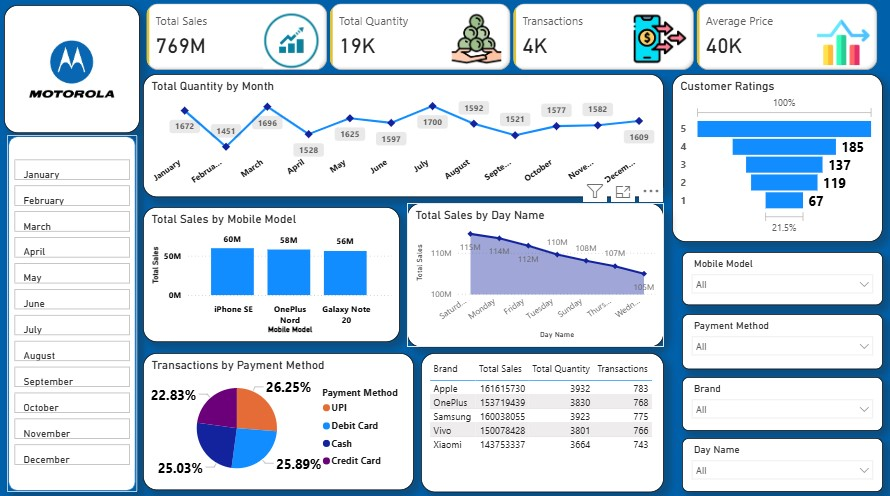

The dashboard page shown, as its layout file describes it:
{"tool":"powerbi","page":{"name":"Page 1","canvas":[1280,720],"ordinal":0},"visuals":[{"type":"shape","box":[8.6,7.1,194.3,182.9],"z":0},{"type":"image","box":[24.3,14.3,161.4,168.6],"z":1000},{"type":"shape","box":[12.8,192.8,185.7,510.2],"z":2000},{"type":"advancedSlicerVisual","fields":{"Values":["SalesData.Date.Variation.Date Hierarchy.Month"]},"box":[18.4,222.5,175.7,446.5],"z":3000},{"type":"cardVisual","fields":{"Data":["SalesData.Total Sales","SalesData.Total Quantity","SalesData.Transactions","SalesData.Average Price"]},"box":[207.1,0,1057.1,105.7],"z":4000},{"type":"lineChart","fields":{"Category":["SalesData.Date.Variation.Date Hierarchy.Month","SalesData.Date.Variation.Date Hierarchy.Day"],"Y":["SalesData.Total Quantity"]},"box":[207.1,105.7,744.3,175.7],"z":5000},{"type":"clusteredColumnChart","fields":{"Category":["SalesData.Mobile Model"],"Y":["SalesData.Total Sales"]},"box":[207.1,295.7,367.1,192.9],"z":6000},{"type":"pieChart","fields":{"Y":["SalesData.Transactions"],"Category":["SalesData.Payment Method"]},"box":[207.1,504.3,387.1,195.7],"z":7000},{"type":"funnel","title":"Customer Ratings","fields":{"Y":["CountNonNull(SalesData.Customer Ratings)"],"Category":["SalesData.Customer Ratings"]},"box":[962.9,105.7,301.4,240],"z":8000},{"type":"areaChart","fields":{"Category":["SalesData.Day Name"],"Y":["SalesData.Total Sales"]},"box":[584.3,290,367.1,205.7],"z":9000},{"type":"tableEx","fields":{"Values":["SalesData.Brand","SalesData.Total Sales","SalesData.Total Quantity","SalesData.Transactions"]},"box":[604.3,504.3,347.1,198.6],"z":10000},{"type":"slicer","fields":{"Values":["SalesData.Mobile Model"]},"box":[977.1,360,287.1,75.7],"z":11000},{"type":"slicer","fields":{"Values":["SalesData.Payment Method"]},"box":[977.1,448.6,287.1,78.6],"z":11001},{"type":"slicer","fields":{"Values":["SalesData.Brand"]},"box":[977.1,538.6,287.1,77.1],"z":11002},{"type":"slicer","fields":{"Values":["SalesData.Day Name"]},"box":[977.1,625.7,287.1,77.1],"z":11003}]}

Visuals, with their boxes in screenshot pixels (x1, y1, x2, y2), scaled from the page's 1280x720 canvas onto the 890x496 screenshot:
shape: {"left": 6, "top": 5, "right": 141, "bottom": 131}
image: {"left": 17, "top": 10, "right": 129, "bottom": 126}
shape: {"left": 9, "top": 133, "right": 138, "bottom": 484}
advancedSlicerVisual - SalesData.Date.Variation.Date Hierarchy.Month: {"left": 13, "top": 153, "right": 135, "bottom": 461}
cardVisual - SalesData.Total Sales x SalesData.Total Quantity: {"left": 144, "top": 0, "right": 879, "bottom": 73}
lineChart - SalesData.Date.Variation.Date Hierarchy.Month x SalesData.Date.Variation.Date Hierarchy.Day: {"left": 144, "top": 73, "right": 662, "bottom": 194}
clusteredColumnChart - SalesData.Mobile Model x SalesData.Total Sales: {"left": 144, "top": 204, "right": 399, "bottom": 337}
pieChart - SalesData.Transactions x SalesData.Payment Method: {"left": 144, "top": 347, "right": 413, "bottom": 482}
"Customer Ratings" funnel: {"left": 670, "top": 73, "right": 879, "bottom": 238}
areaChart - SalesData.Day Name x SalesData.Total Sales: {"left": 406, "top": 200, "right": 662, "bottom": 341}
tableEx - SalesData.Brand x SalesData.Total Sales: {"left": 420, "top": 347, "right": 662, "bottom": 484}
slicer - SalesData.Mobile Model: {"left": 679, "top": 248, "right": 879, "bottom": 300}
slicer - SalesData.Payment Method: {"left": 679, "top": 309, "right": 879, "bottom": 363}
slicer - SalesData.Brand: {"left": 679, "top": 371, "right": 879, "bottom": 424}
slicer - SalesData.Day Name: {"left": 679, "top": 431, "right": 879, "bottom": 484}
